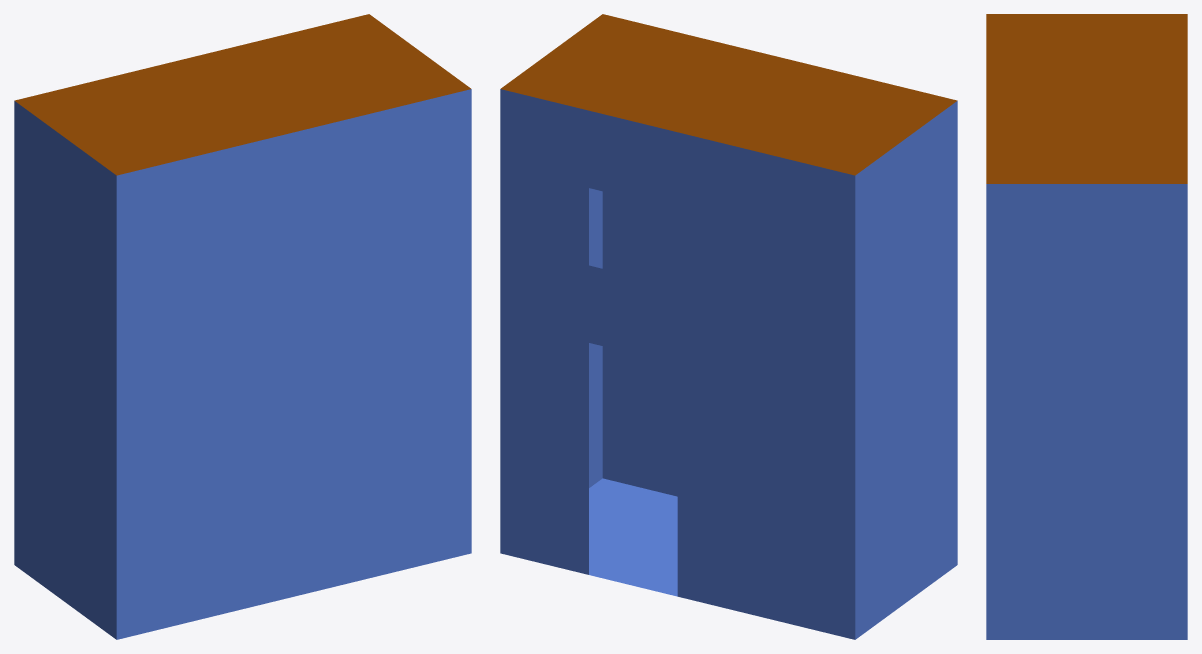
Rendered from blue1.gltf.
3 views of the same model, side by side, from view 1: azimuth 30°, elevation 25°; view 2: azimuth 150°, elevation 25°; view 3: azimuth 270°, elevation 25° (orthographic).
Visible parts, largest first — view 1: Cube; view 2: Cube; view 3: Cube.
Part boxes in pixels (bbox=[...]): Cube: bbox=[14, 14, 471, 639]; Cube: bbox=[500, 14, 957, 639]; Cube: bbox=[986, 14, 1187, 639].
Bounding box in the file's own units: 8 × 10 × 4.
